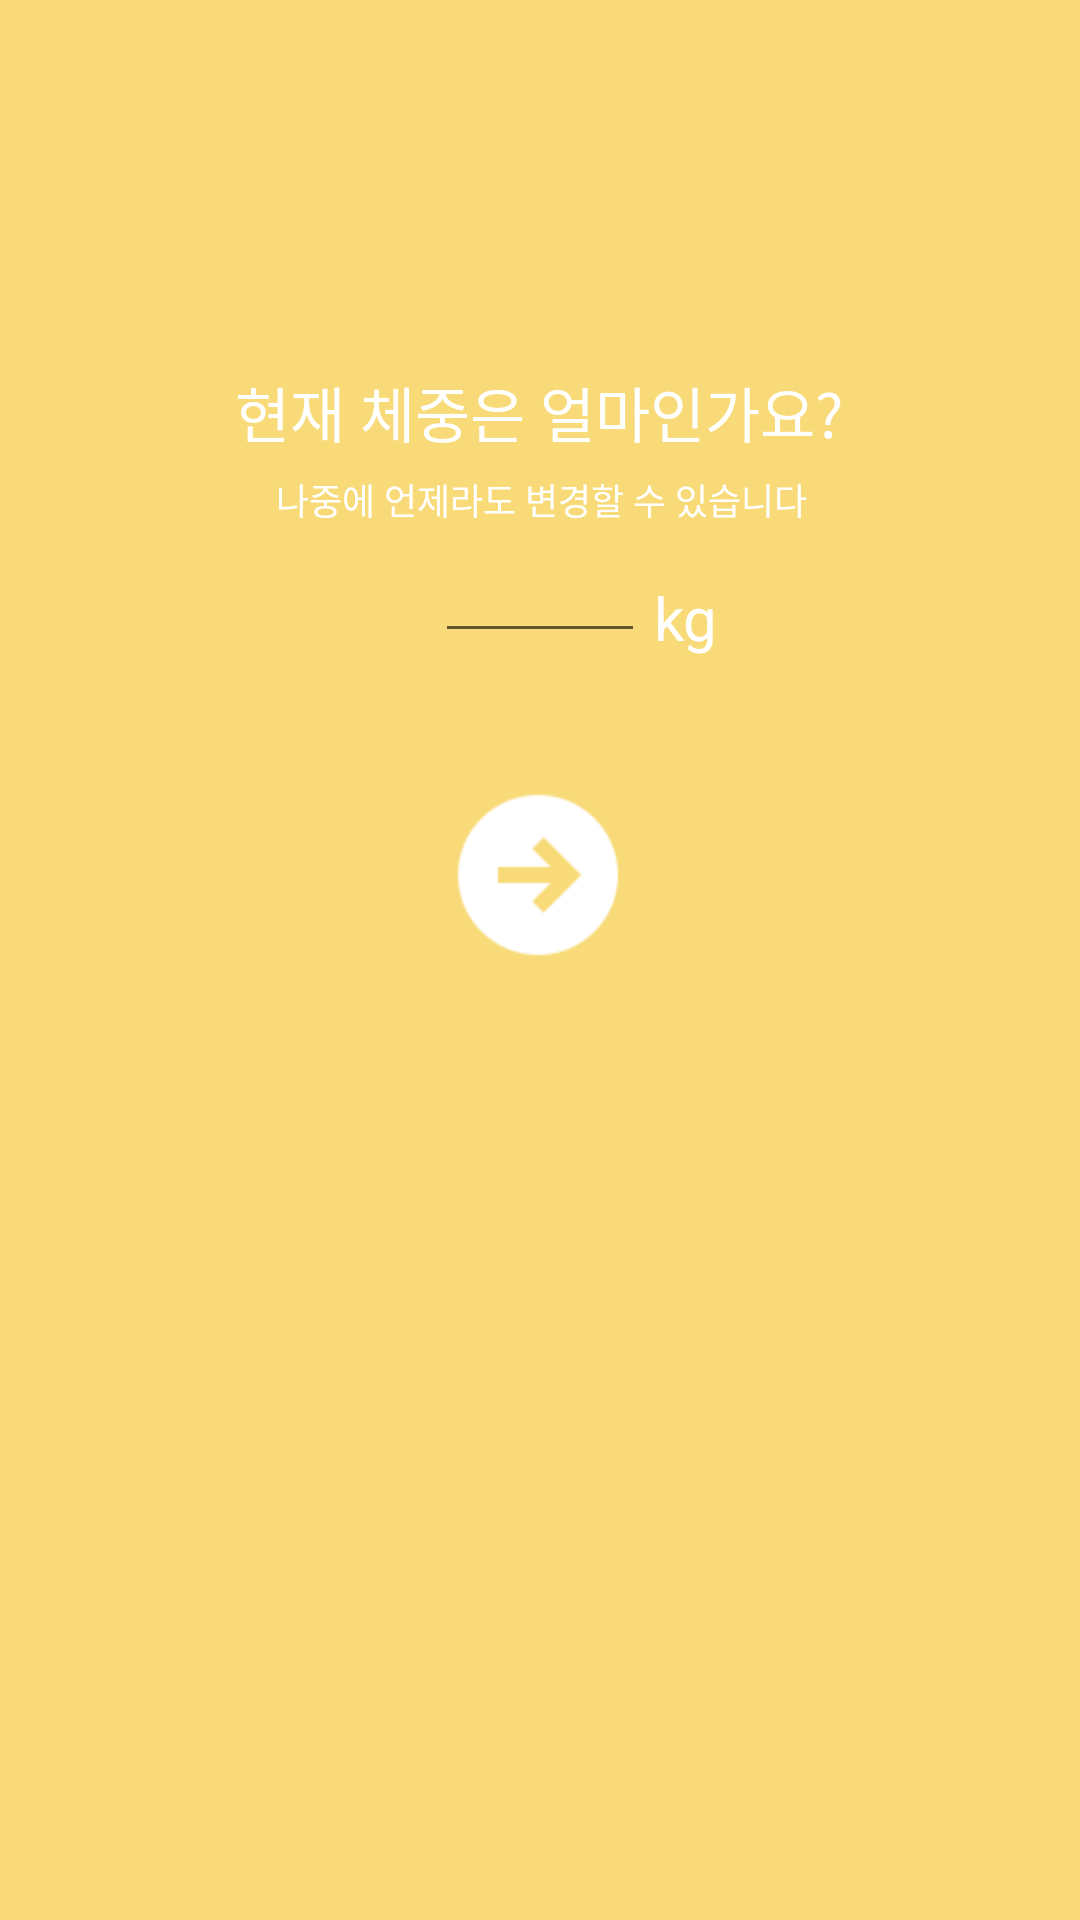

Where to tap for icons on this 1080x1920 app screen, as [x,y]:
arrow: [538,875]
